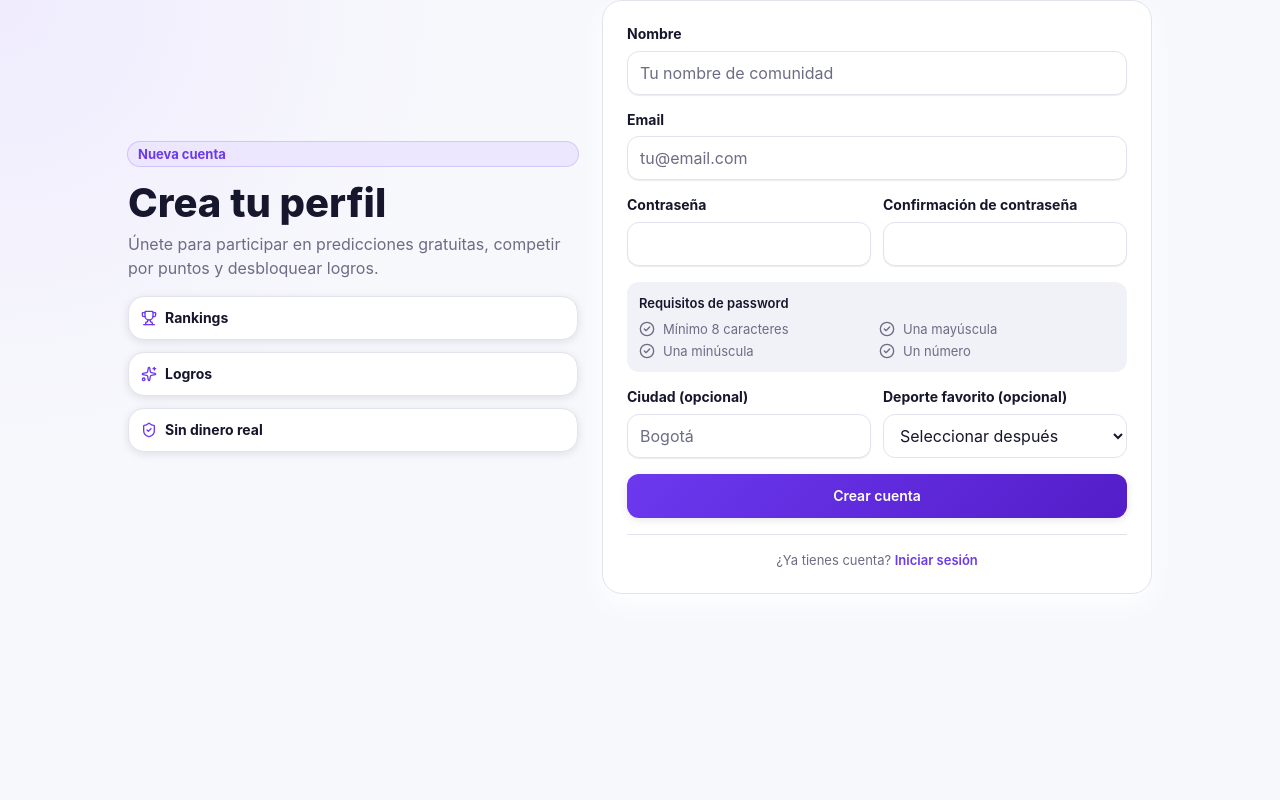
Test case: RegisterPage › shows visible validation errors
This screenshot has width=1280, height=800.
Click the button "Crear cuenta" at (877, 496), box [627,474,1127,518]
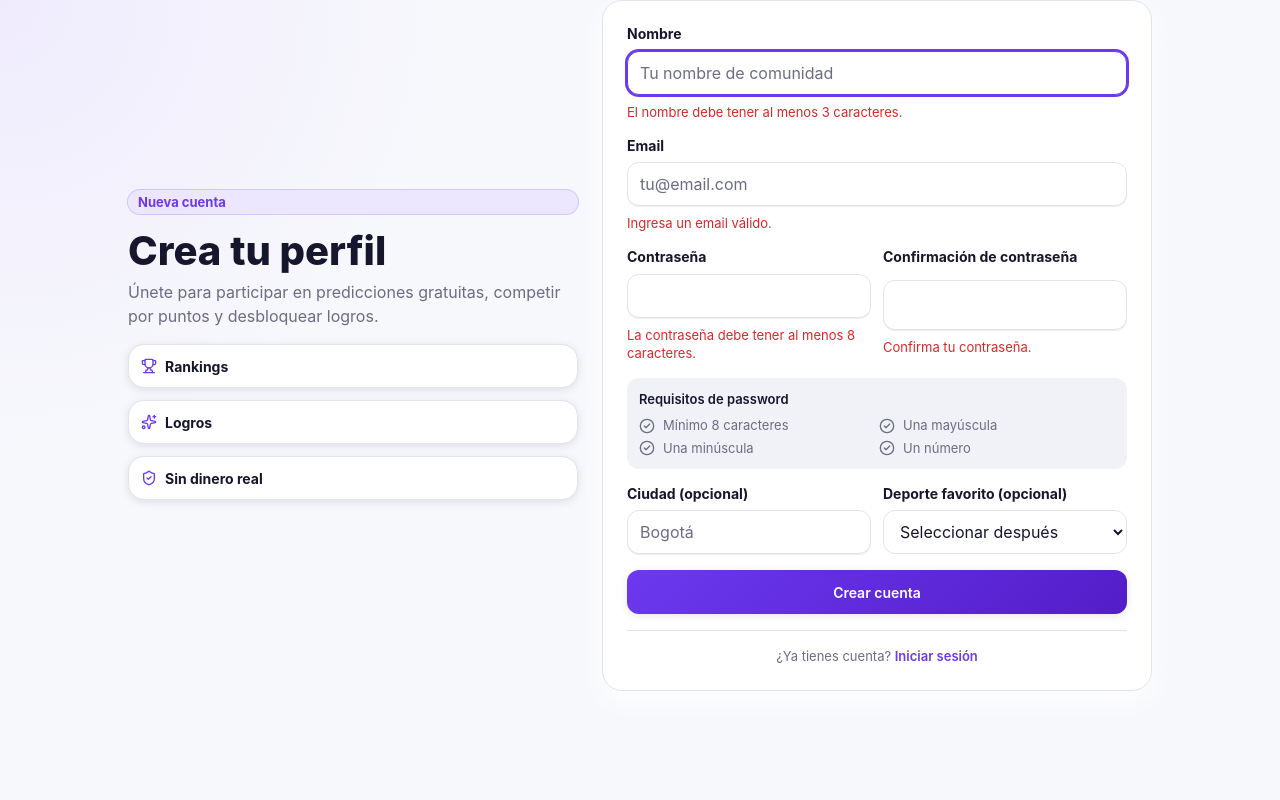
Result: the text "El nombre debe tener al menos 3 caracteres." is shown at [627,104,902,120]
Result: the text "Ingresa un email válido." is shown at [627,215,772,231]
Result: the text "La contraseña debe tener al menos 8 caracteres." is shown at [627,326,871,362]
